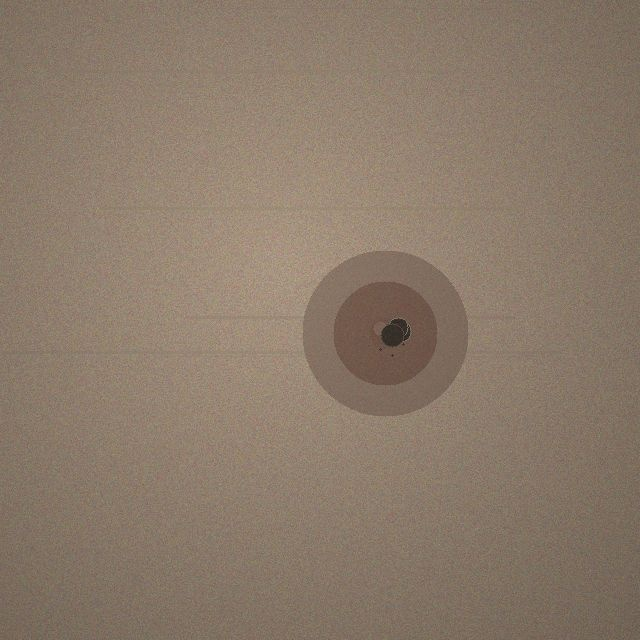shrinkage: (302, 250, 468, 416)
